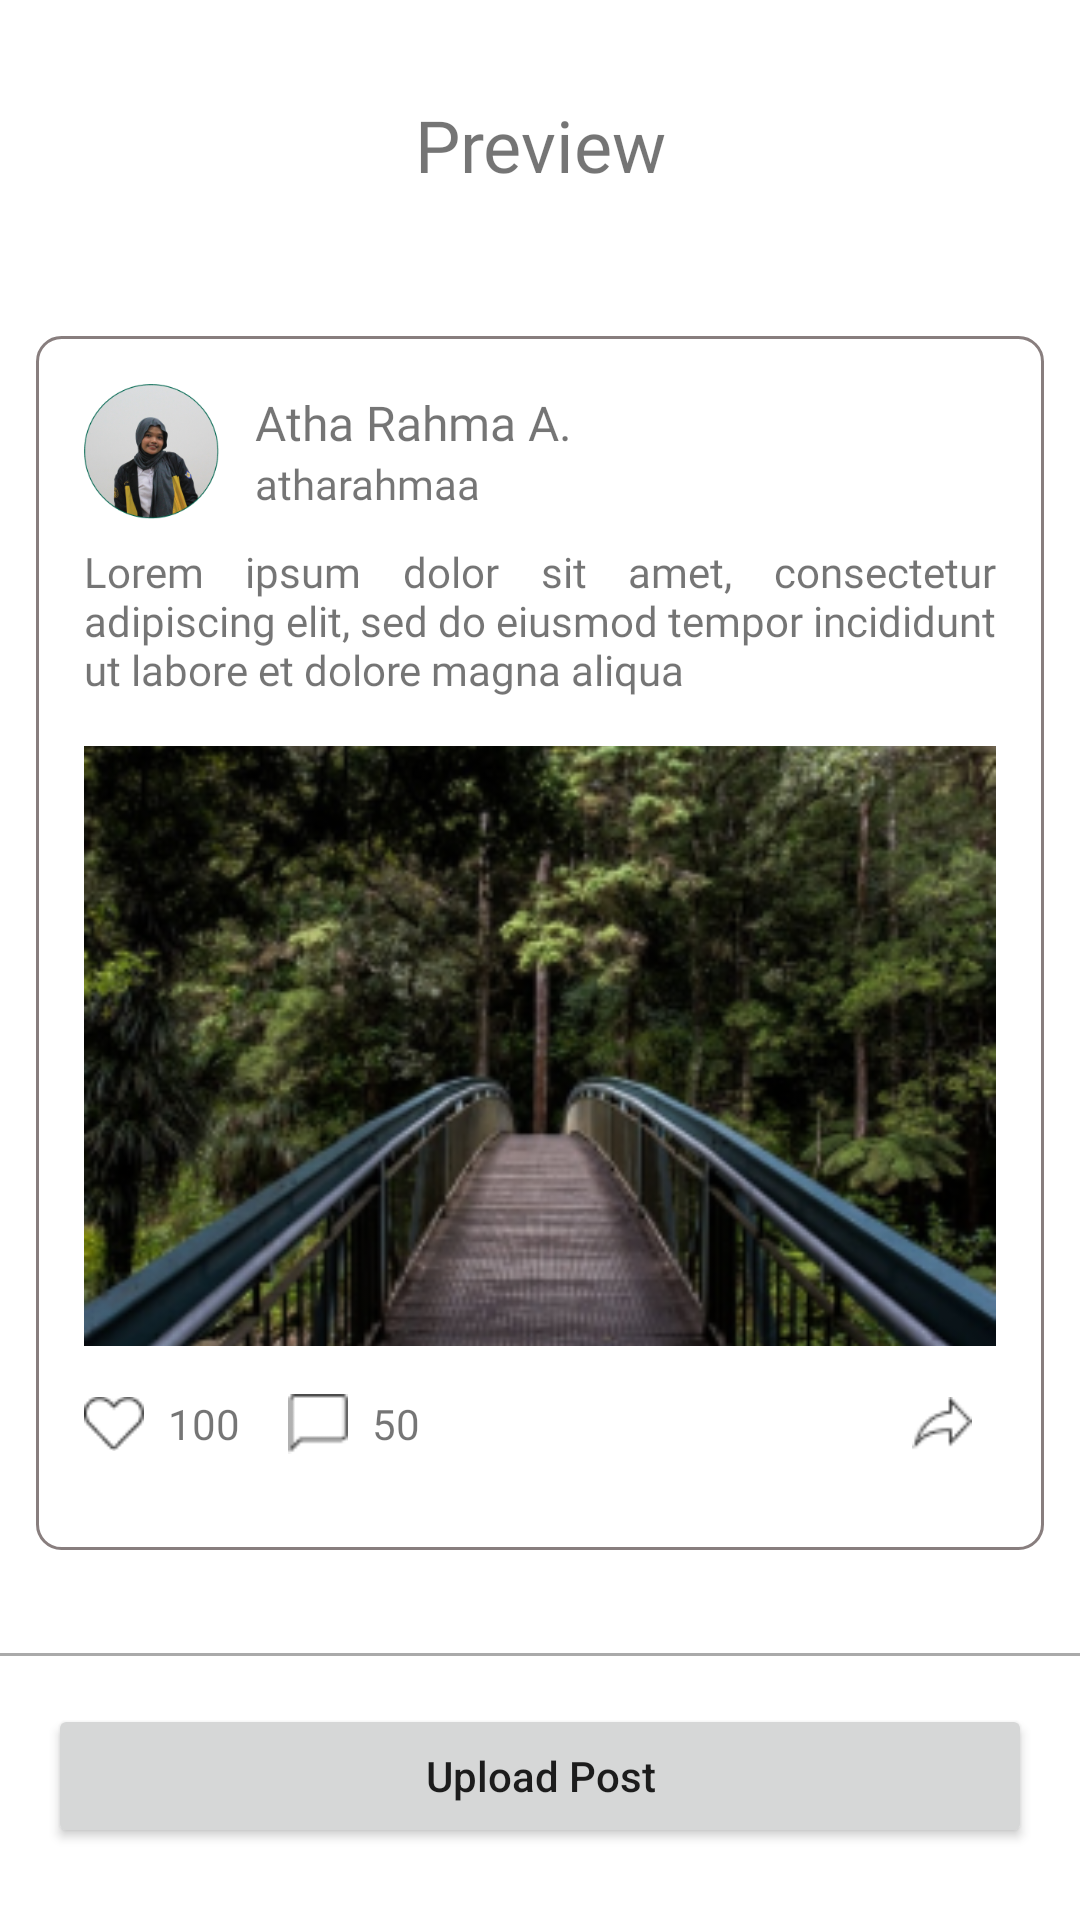

Named icons in this screenshot (1080×1920) and their bounding boxes, [x1,y1,x2,y2]:
comment: [288,1394,348,1452]
like: [84,1397,144,1451]
share: [912,1397,972,1448]
